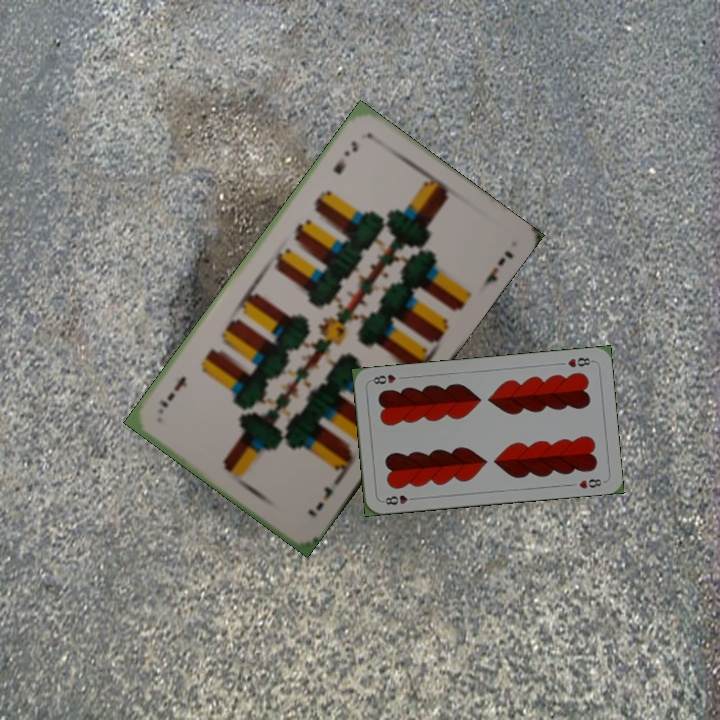E7: (328, 137, 361, 177), (303, 482, 335, 521)
H8: (378, 491, 419, 508), (564, 353, 596, 370)
